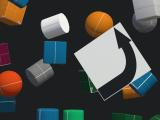Left: (74, 22, 152, 101)
